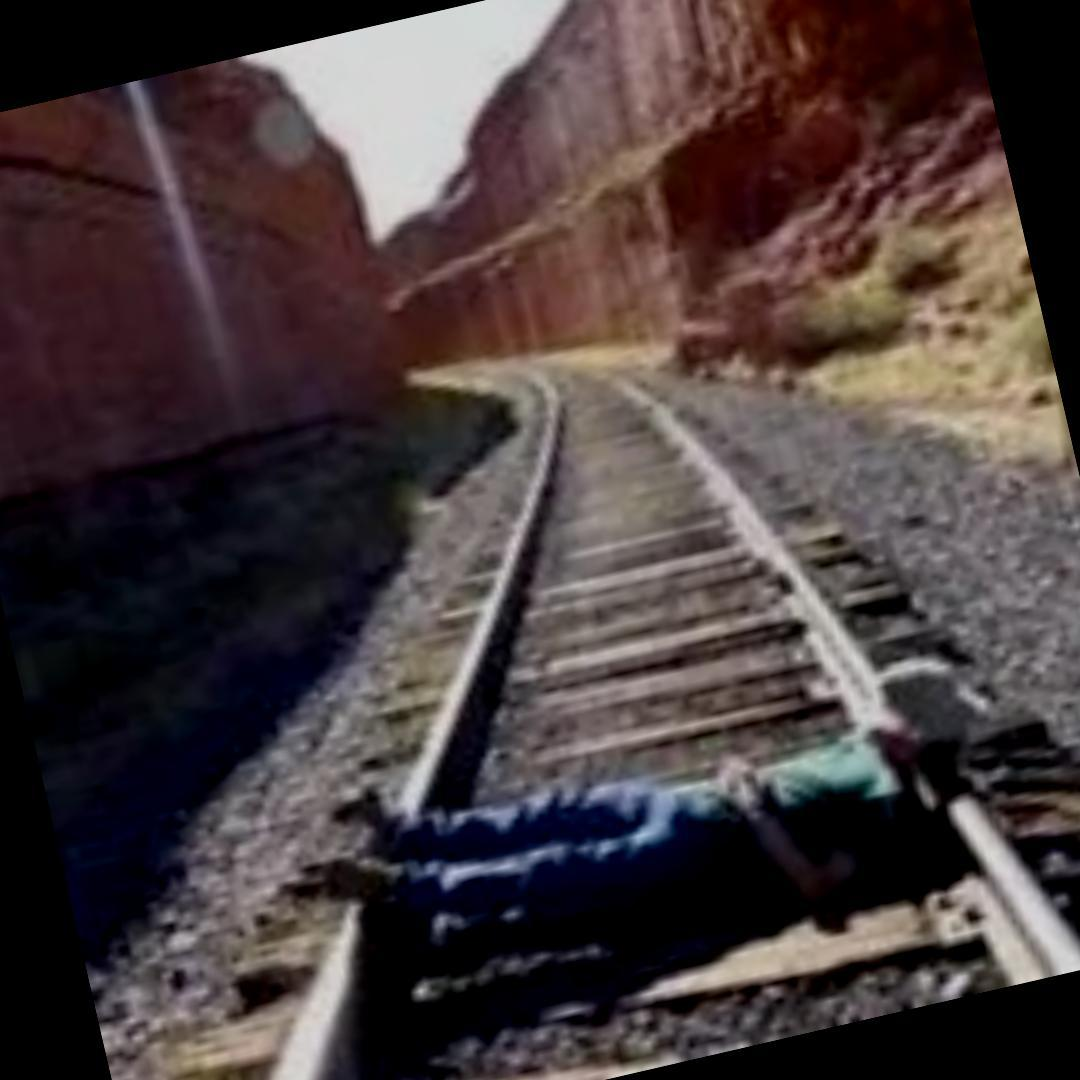sleeping: (285, 632, 1058, 1052)
track: (162, 331, 1080, 1080)
